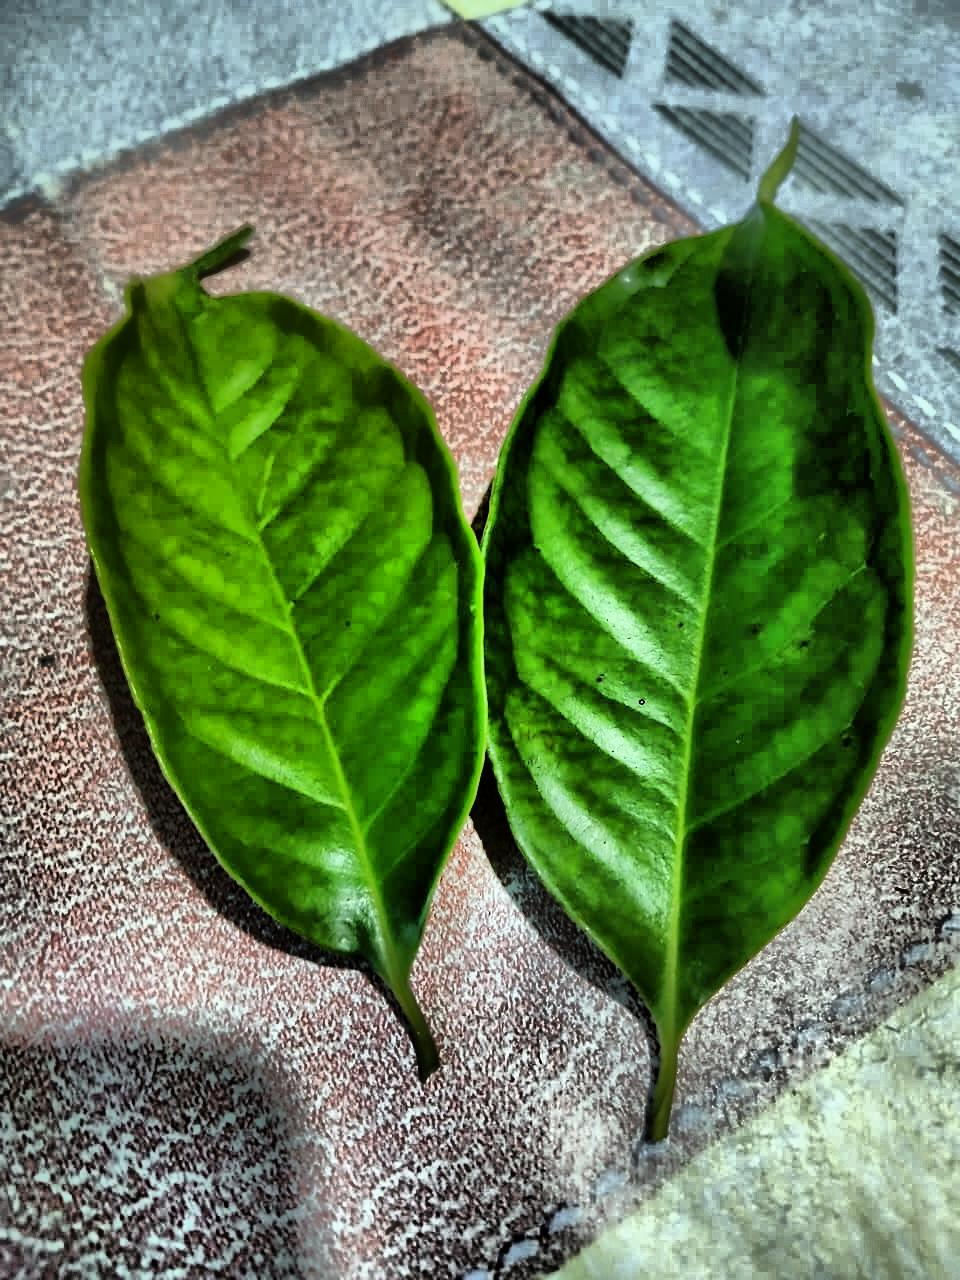daun salam: (81, 130, 913, 1140)
